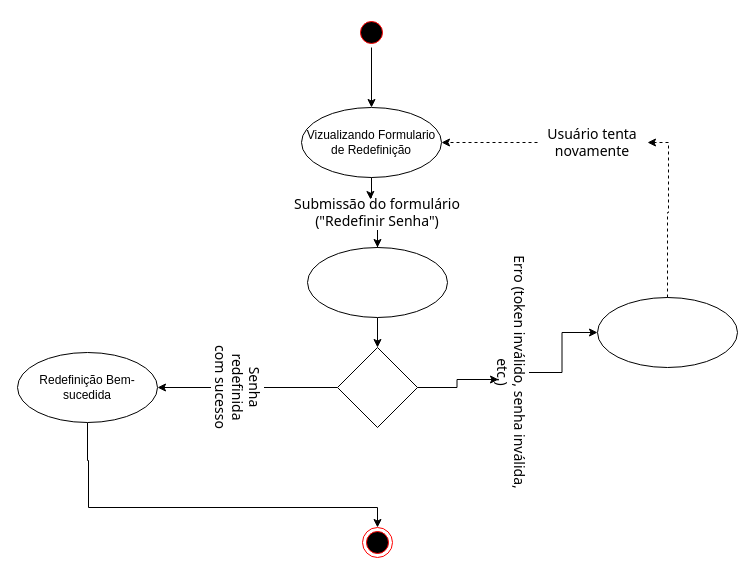
This 755x575 diagram has some shape labels left out. Here are the shapes that lost their labels. From the top down, the box of each, then its label:
(306, 246, 448, 318): Enviando Nova senha
(596, 296, 738, 368): Erro na definição
